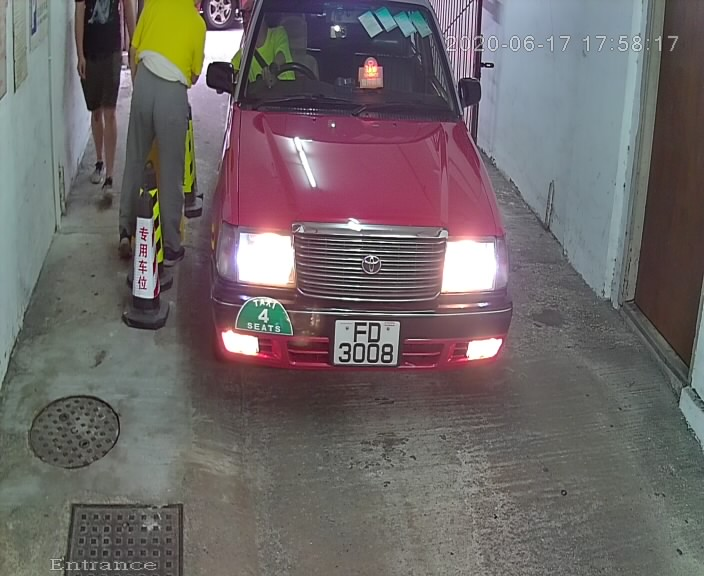taxi: (191, 2, 517, 405)
taxi_mark: (233, 292, 301, 339)
